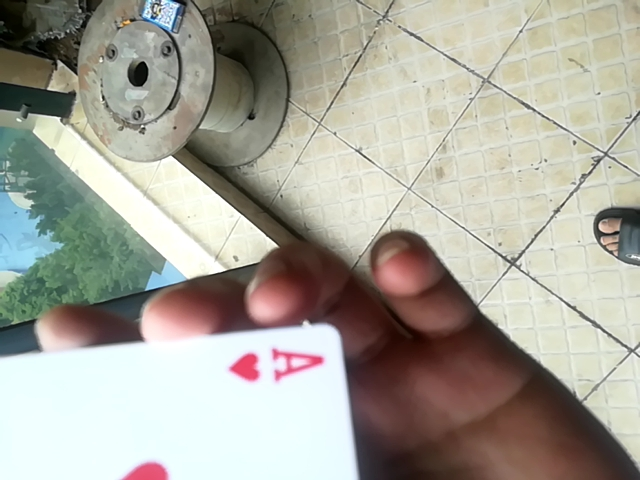hx a: (0, 323, 364, 479)
